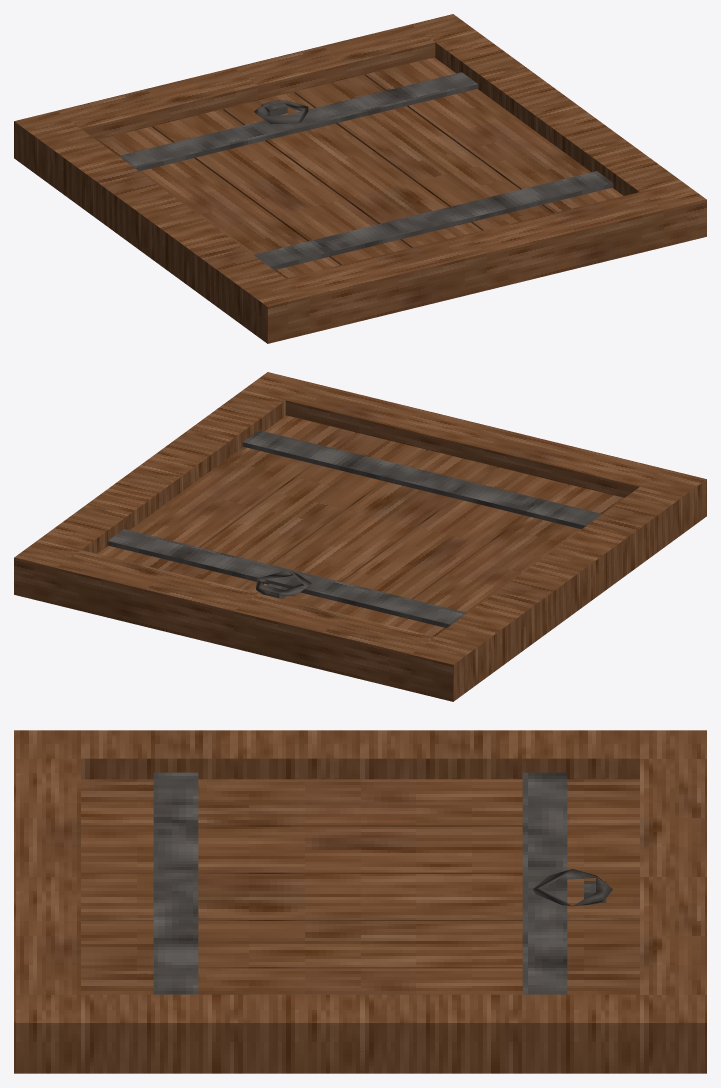
The model's file is trapdoor.lod2.glb.
3 views of the same model, one above another, from view 1: azimuth 30°, elevation 25°; view 2: azimuth 150°, elevation 25°; view 3: azimuth 270°, elevation 25° (orthographic). The views are drawn at different scales.
Parts seen in each view (by area): view 1: Frame, Leaf; view 2: Frame, Leaf; view 3: Leaf, Frame.
Boxes of the visible parts, box(x1,y1,x2,y2) form: Frame: box(14, 14, 706, 343); Leaf: box(97, 57, 623, 278); Frame: box(14, 372, 706, 701); Leaf: box(97, 415, 623, 636); Leaf: box(81, 772, 639, 994); Frame: box(14, 730, 706, 1073).
Bounding box in the file's own units: 1.24 × 0.1 × 1.24.
Materials: 3 (3 with a texture image).
